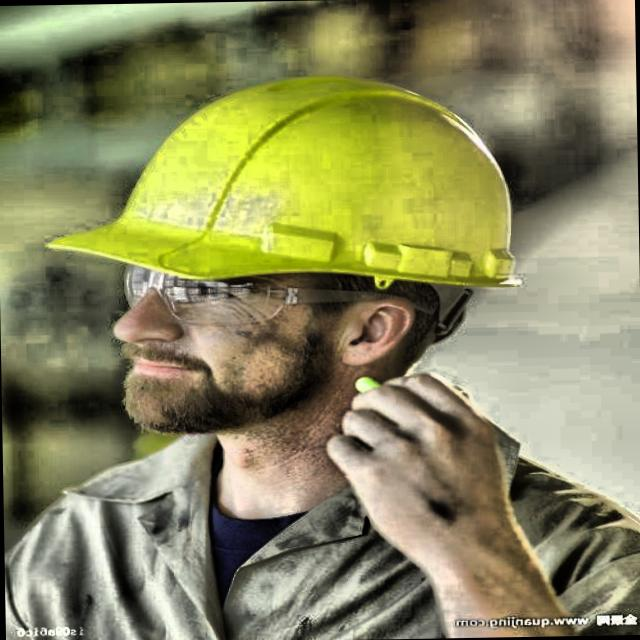helmet: (24, 26, 576, 478)
